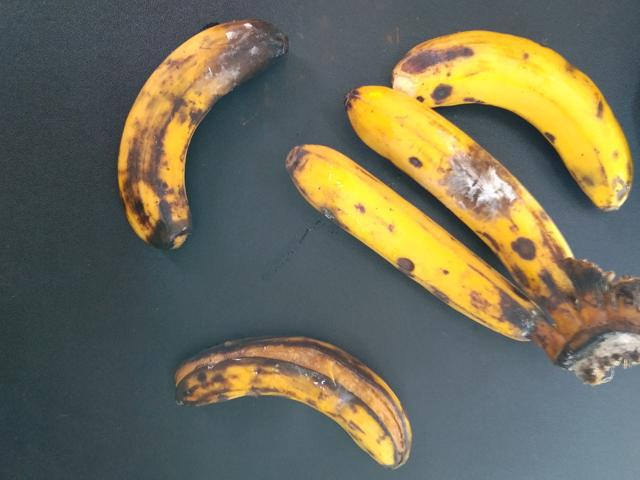overripe: (334, 79, 591, 291), (278, 149, 552, 346), (395, 17, 639, 212)
rotten: (125, 318, 421, 479), (108, 10, 272, 277), (436, 136, 543, 243)
